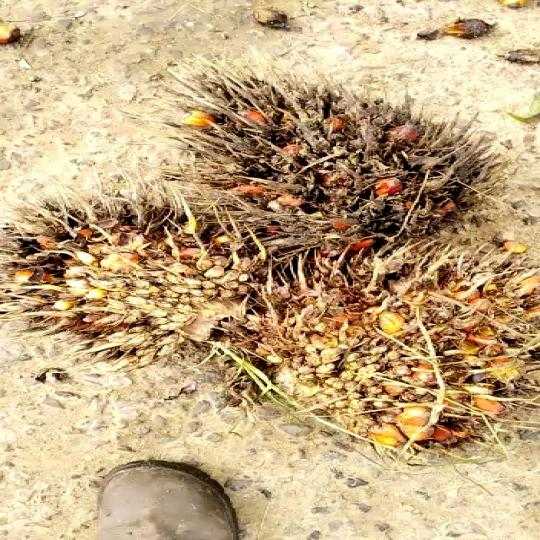terlalu masak: (134, 77, 528, 261), (0, 194, 318, 368)
